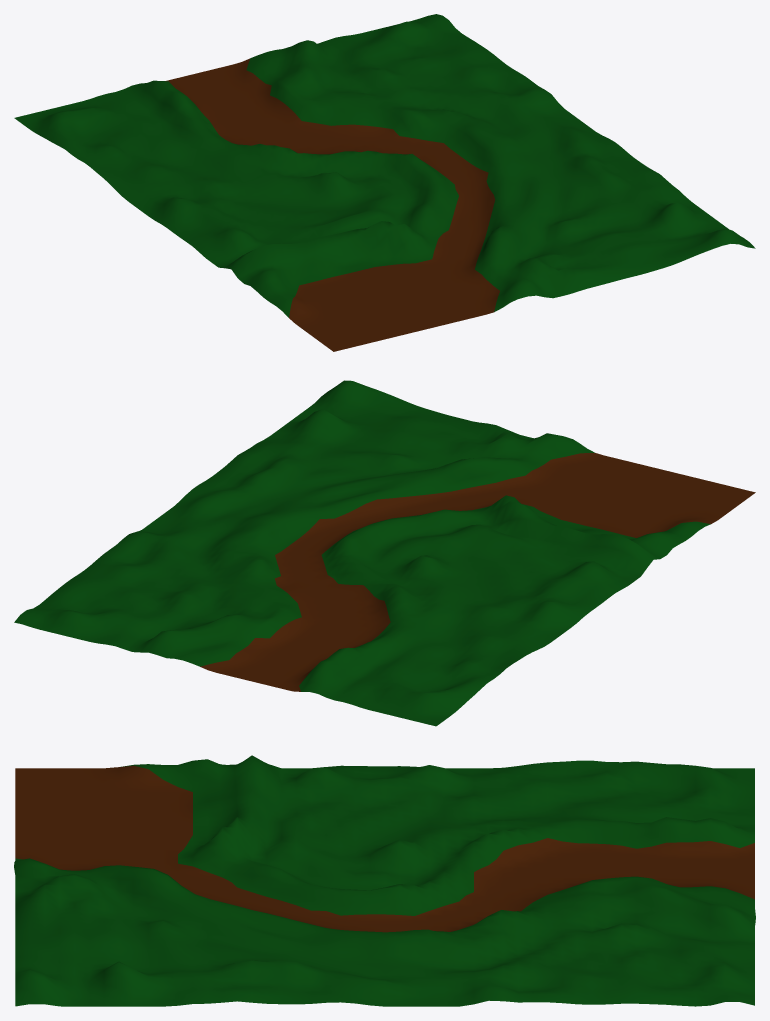
The model's file is Terrain.FBX.
The picture shows the model from 3 angles, top to bottom: view 1: azimuth 30°, elevation 25°; view 2: azimuth 150°, elevation 25°; view 3: azimuth 270°, elevation 25°; orthographic projection. The views are drawn at different scales.
Parts seen in each view (by area): view 1: Plane001; view 2: Plane001; view 3: Plane001.
Boxes of the visible parts, x1,y1,x2,y2 form: Plane001: [14, 14, 755, 351]; Plane001: [14, 380, 755, 726]; Plane001: [14, 755, 755, 1006].
Bounding box in the file's own units: 90.56 × 5.28 × 119.
